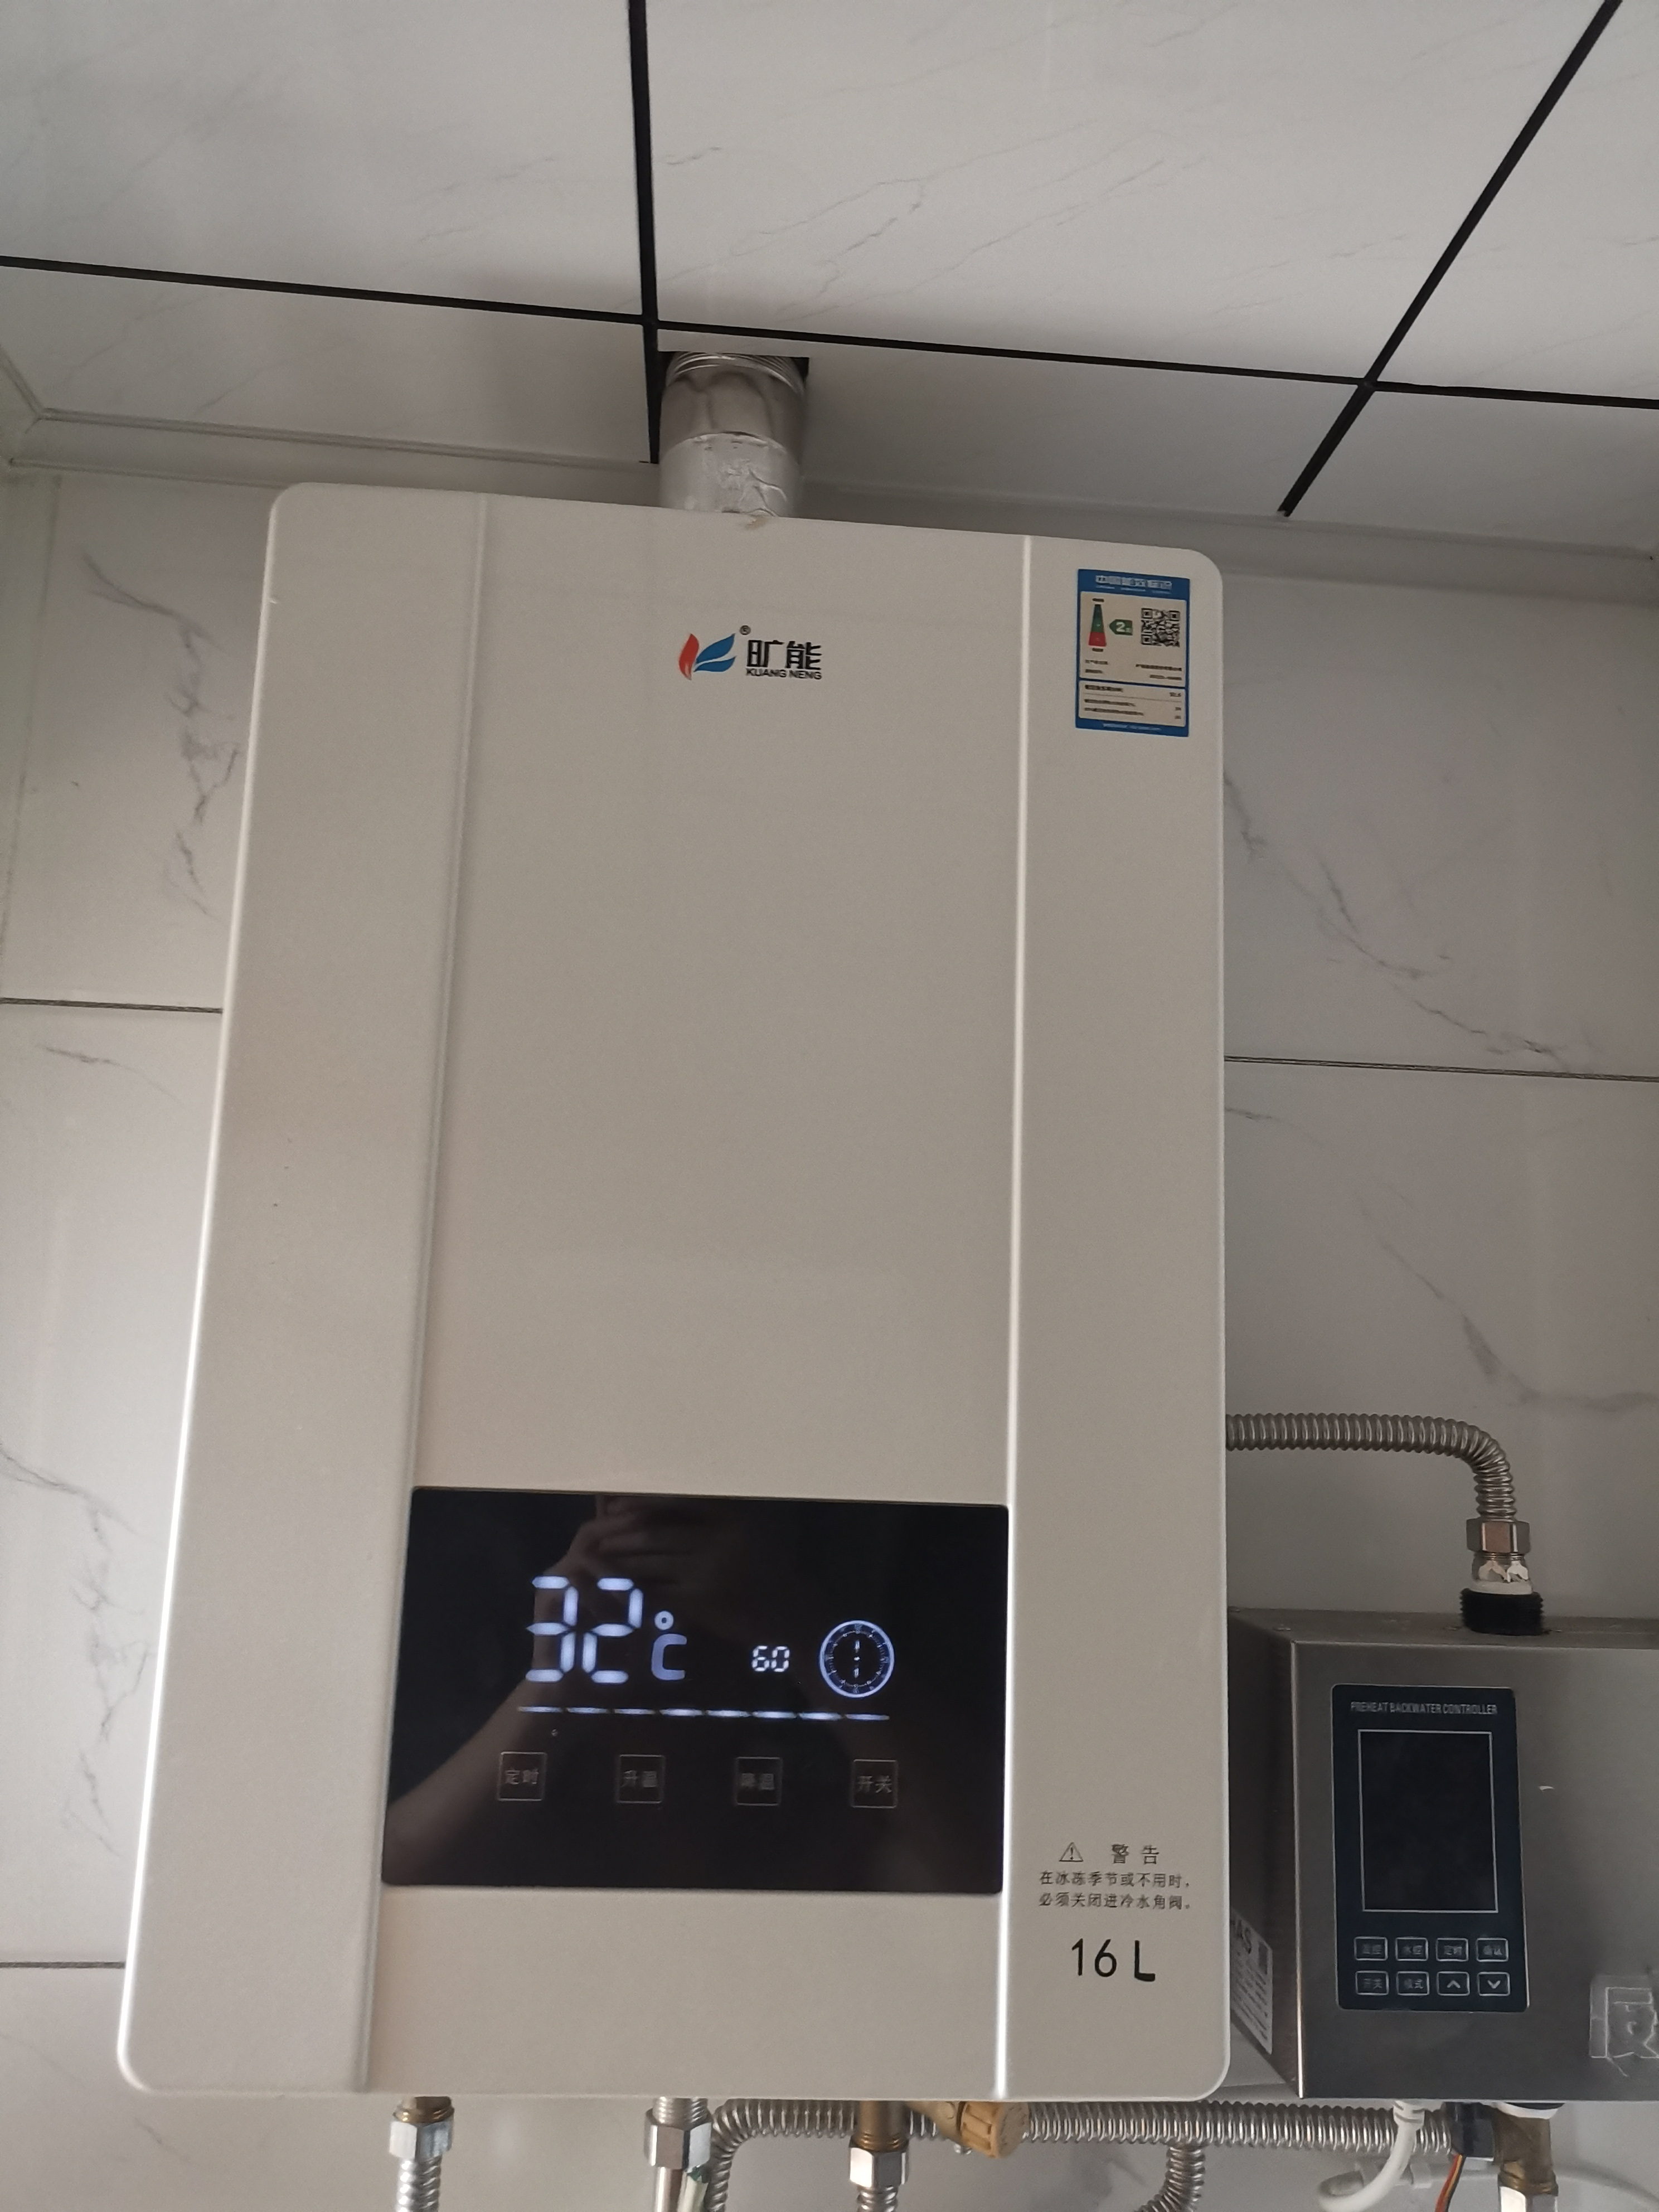loudou: (643, 608, 877, 700)
